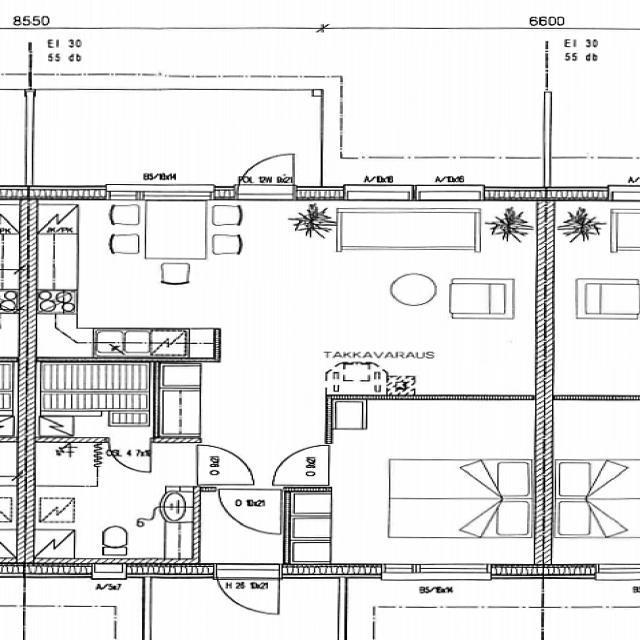door: (213, 564, 277, 623), (237, 143, 297, 199), (220, 487, 278, 533), (270, 445, 333, 484), (195, 446, 256, 485), (106, 438, 149, 472)
